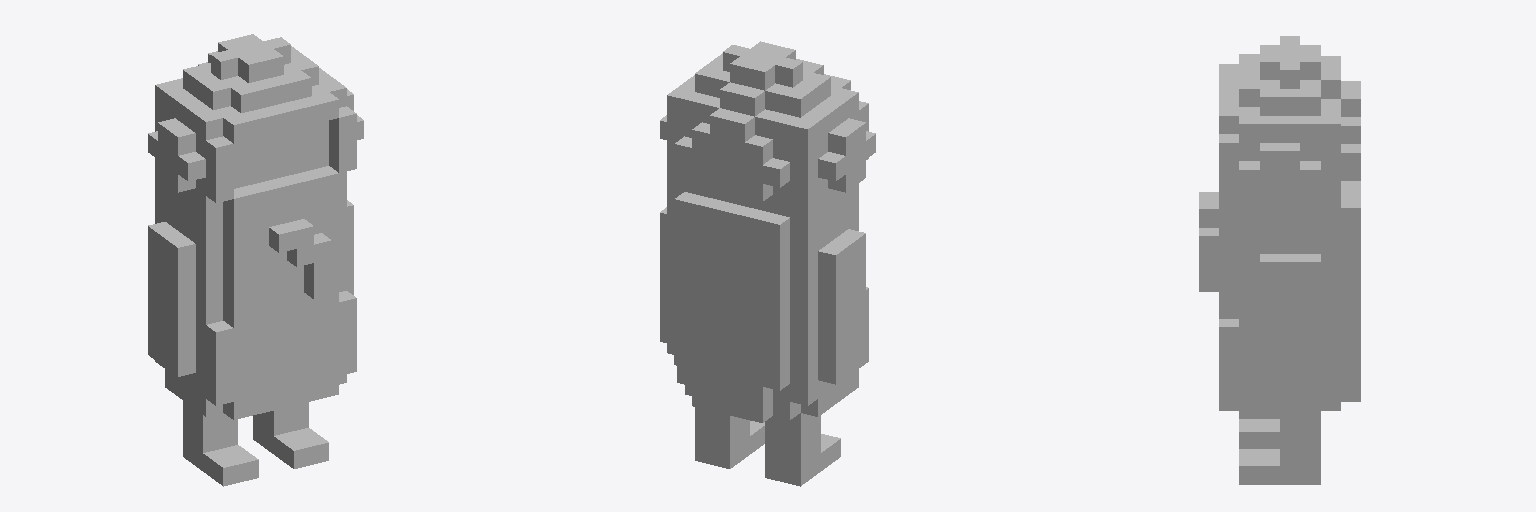
Rendered from Snowman.obj.
3 views of the same model, side by side, from view 1: azimuth 30°, elevation 25°; view 2: azimuth 150°, elevation 25°; view 3: azimuth 270°, elevation 25° (orthographic).
Parts seen in each view (by area): view 1: object 1; view 2: object 1; view 3: object 1.
Part boxes in pixels (x1,y1,x2,y2): object 1: (148,34,363,486); object 1: (660,41,875,486); object 1: (1199,36,1360,484).
Bounding box in the file's own units: 1 × 2.2 × 0.8.